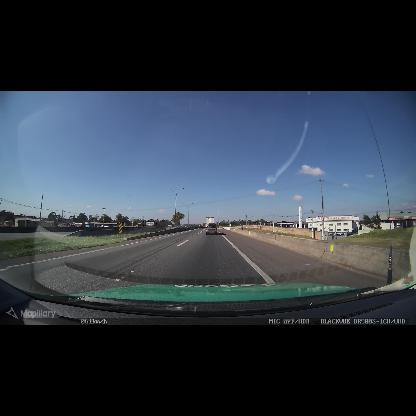O-MP: (119, 222, 122, 233)
